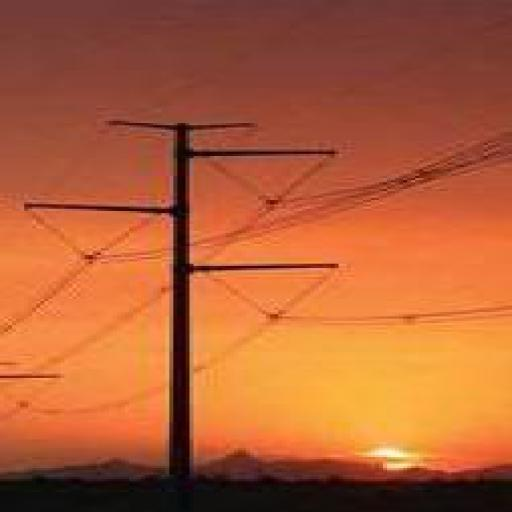mono_10: (20, 110, 351, 486)
